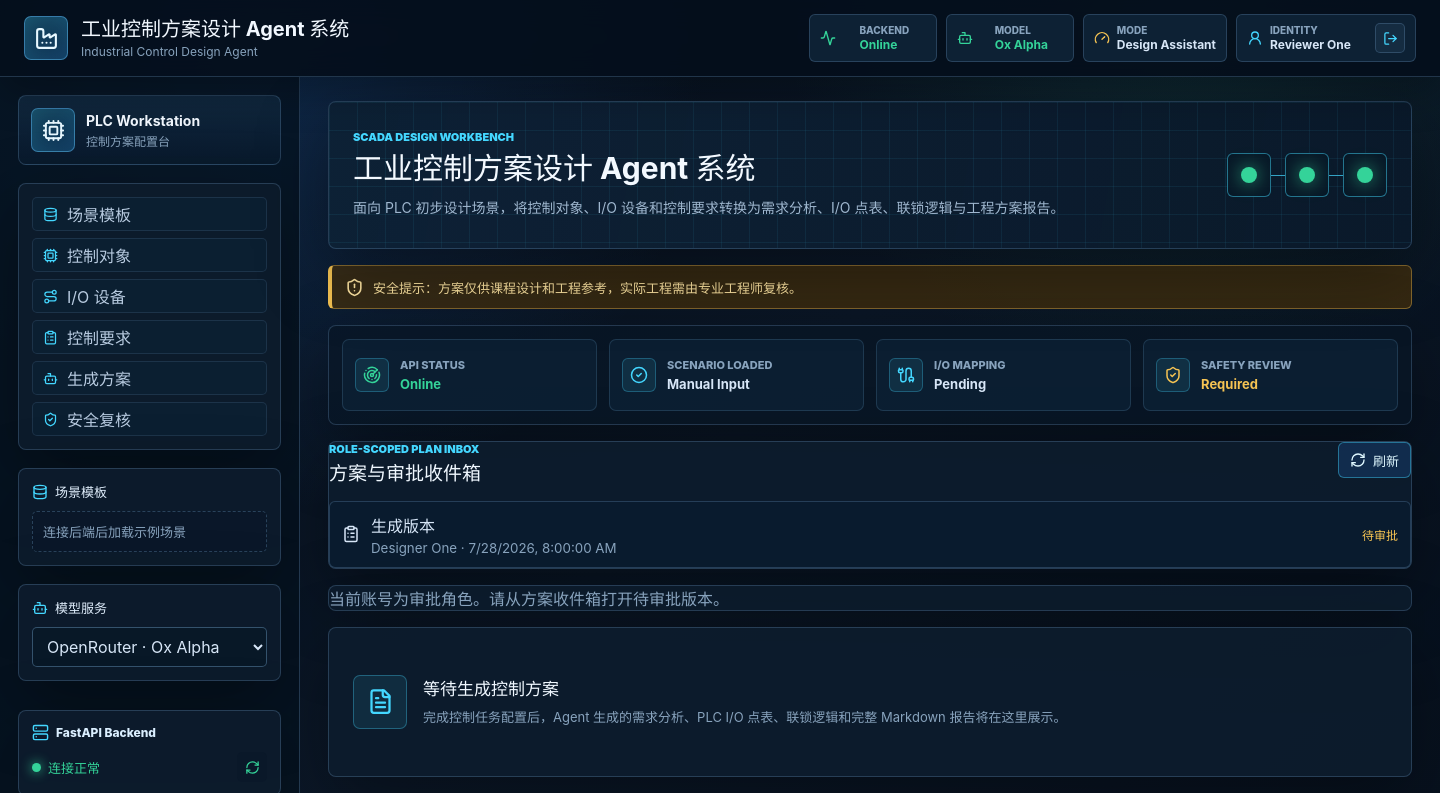
App RBAC review workspace › shows a role-scoped inbox and approves with verified identity
Expected: the heading "方案与审批收件箱" is shown, left=329, top=462, right=481, bottom=487
Step 1. Click the button "生成版本 Designer One · 7/28/2026, 8:00:00 AM 待审批" → (403, 526), box left=329, top=501, right=1411, bottom=568
(page scrolled)
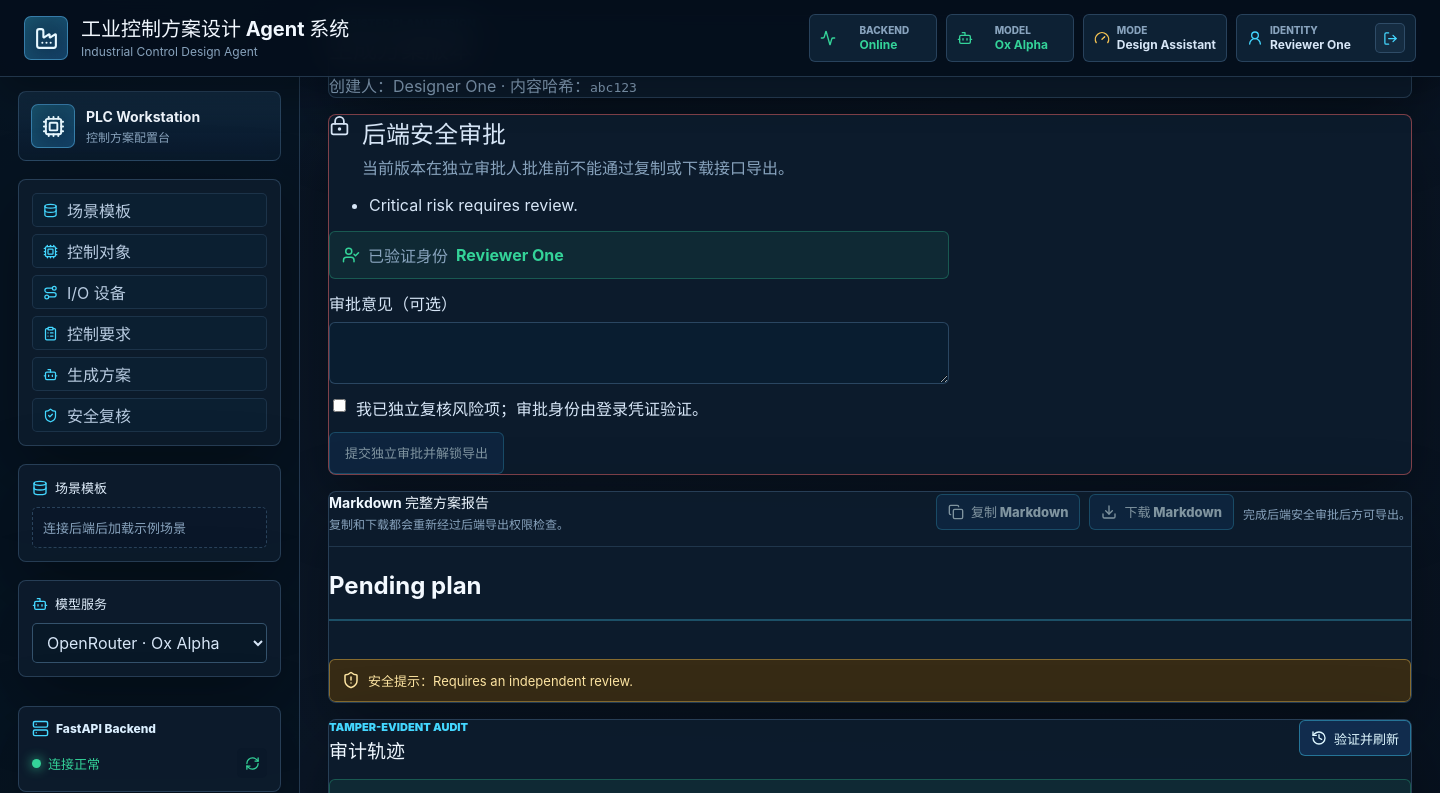
Result: the heading "审计轨迹" is shown at left=329, top=740, right=405, bottom=763
Result: the element named "已验证审批身份" shows "Reviewer One" at left=456, top=245, right=564, bottom=265
Step 2. Click the checkbox labelled "我已独立复核风险项；审批身份由登录凭证验证。" → (340, 405), box left=333, top=399, right=346, bottom=412
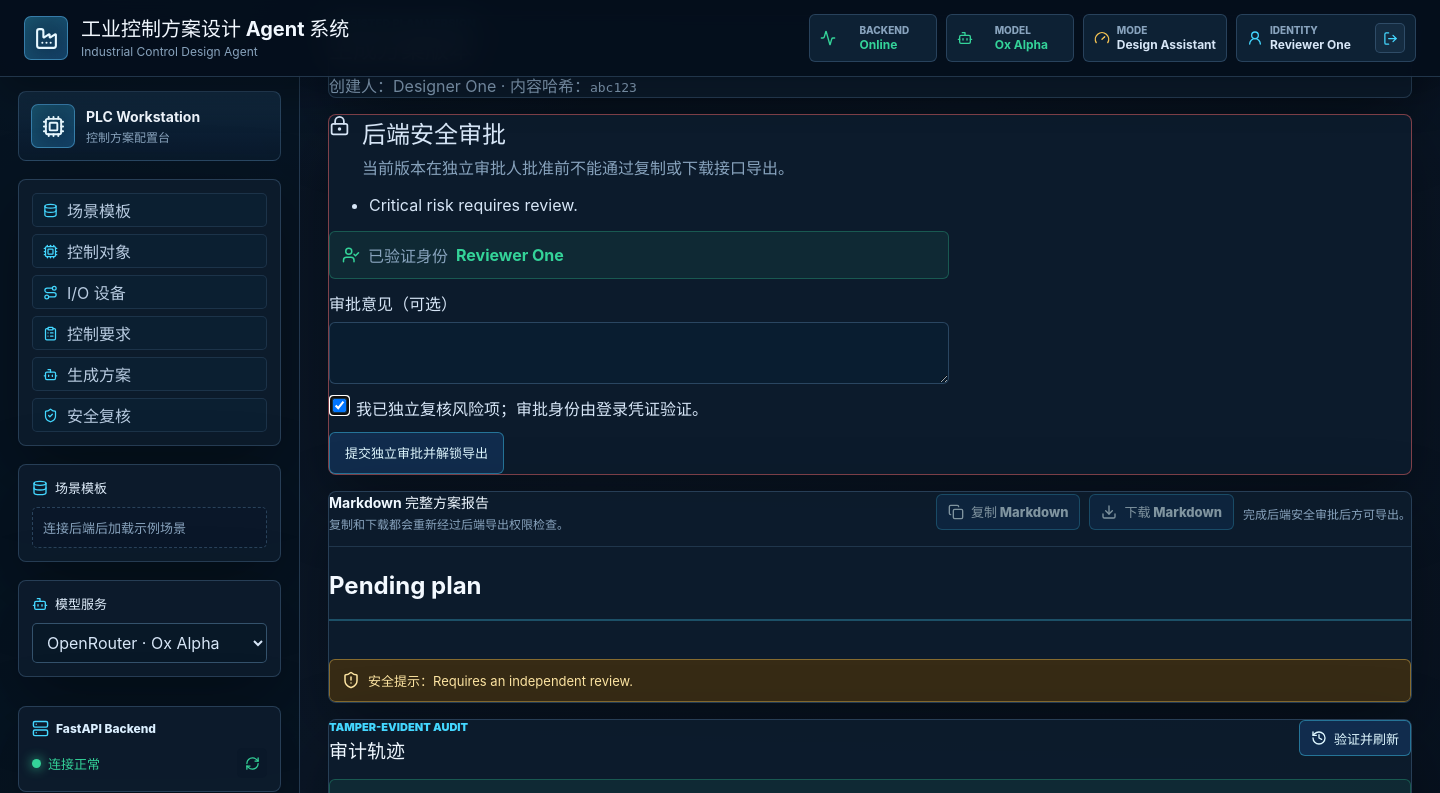
Step 3. Click the button "提交独立审批并解锁导出" → (416, 453), box left=329, top=432, right=504, bottom=474
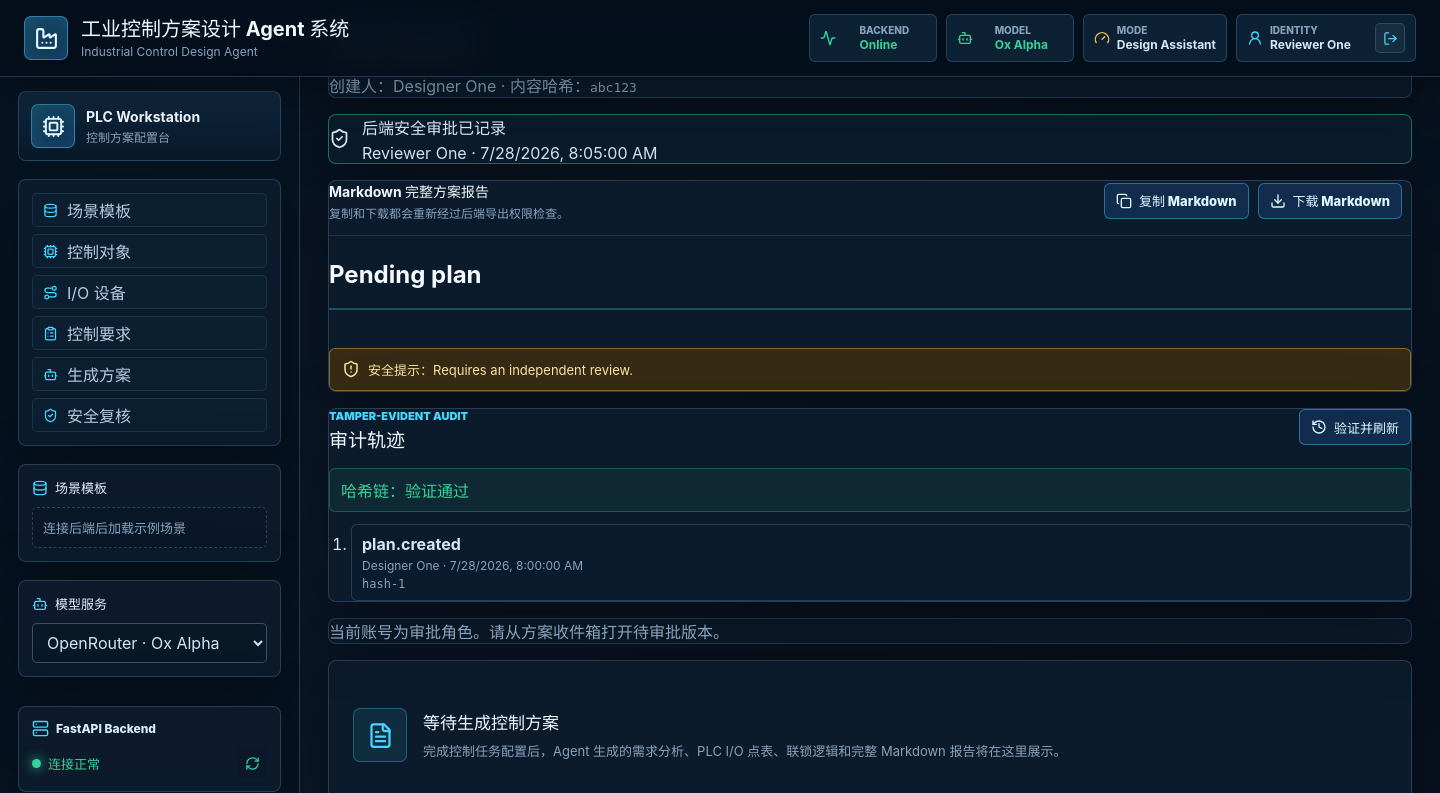
Result: the text "后端安全审批已记录" is shown at left=362, top=118, right=506, bottom=138
